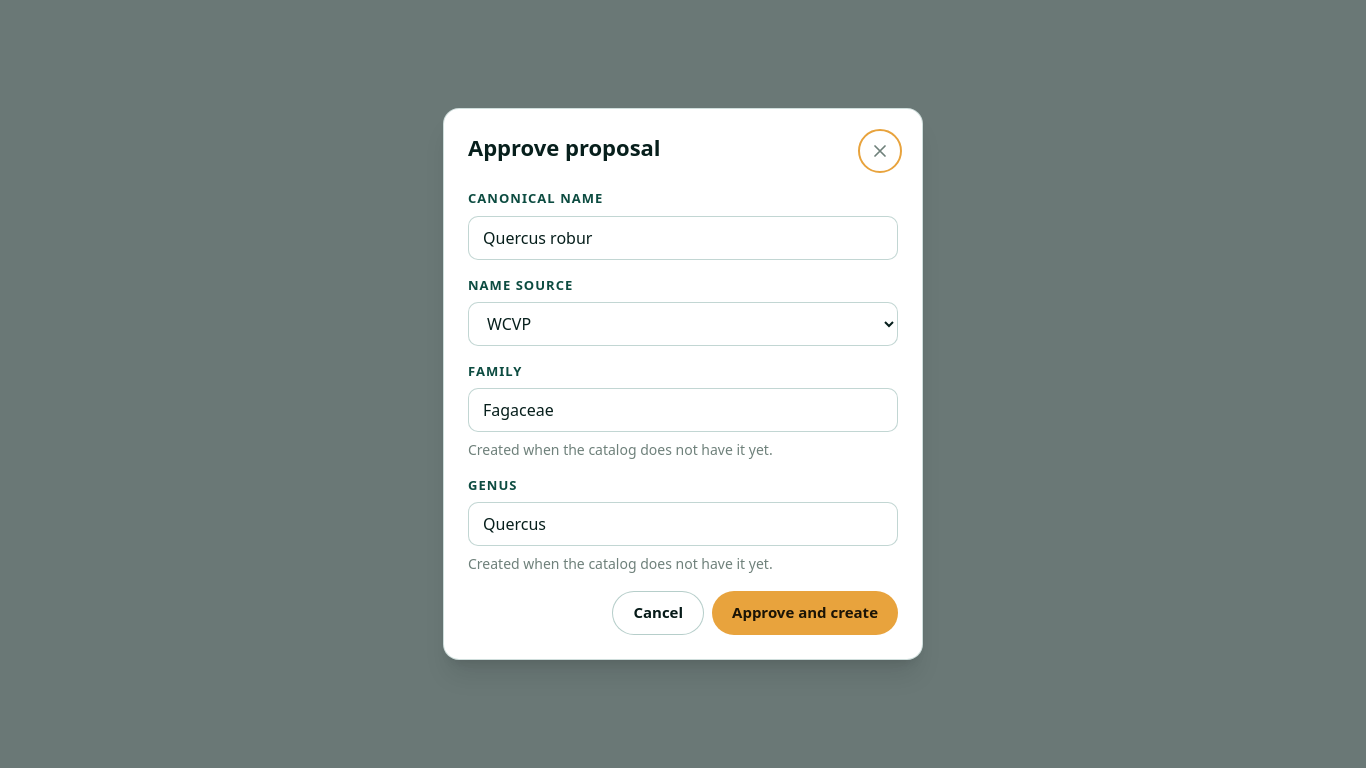
Test case: RFC-75 R4 ApproveProposalDialog › RFC-13 R6 an empty canonical name is refused before any request
The image size is (1366, 768).
Clear the field labelled "Canonical name": [683, 238] box [468,216,898,260]
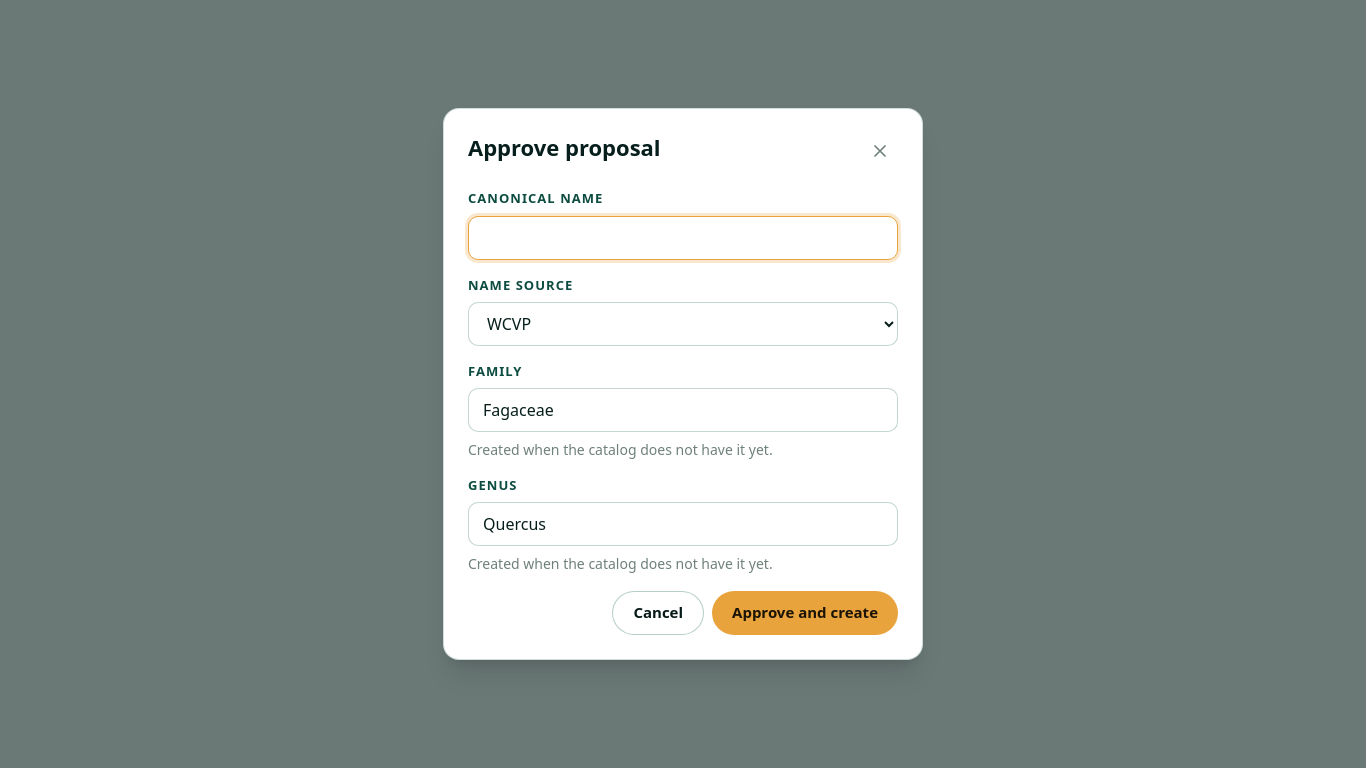
Click the button "Approve and create": [805, 613] box [712,591,898,635]
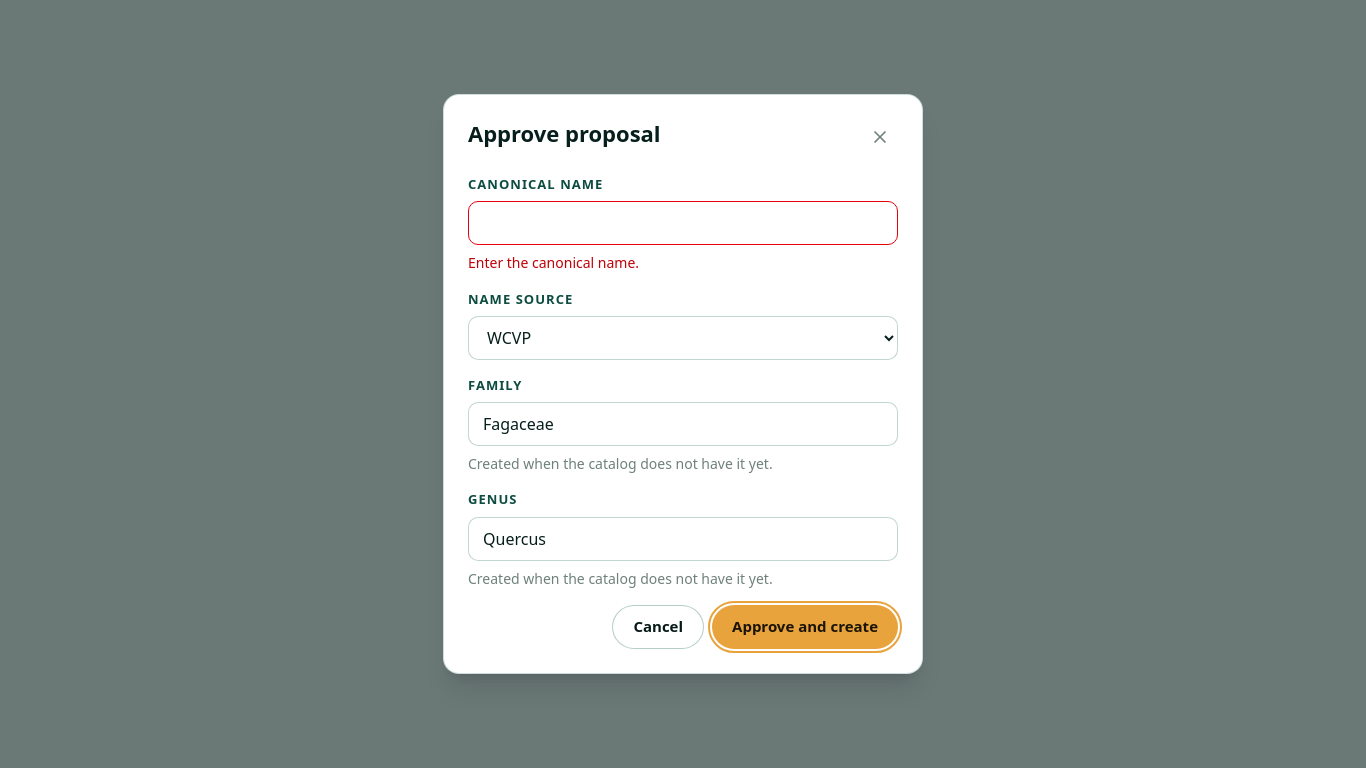
Result: the text "Enter the canonical name." is shown at [468,253,639,272]
